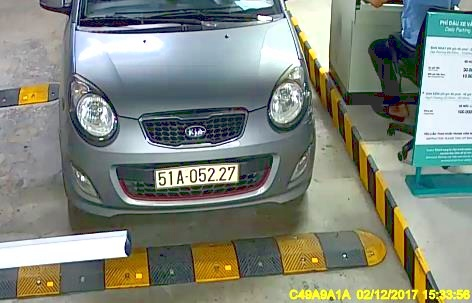plate: (151, 163, 249, 187)
